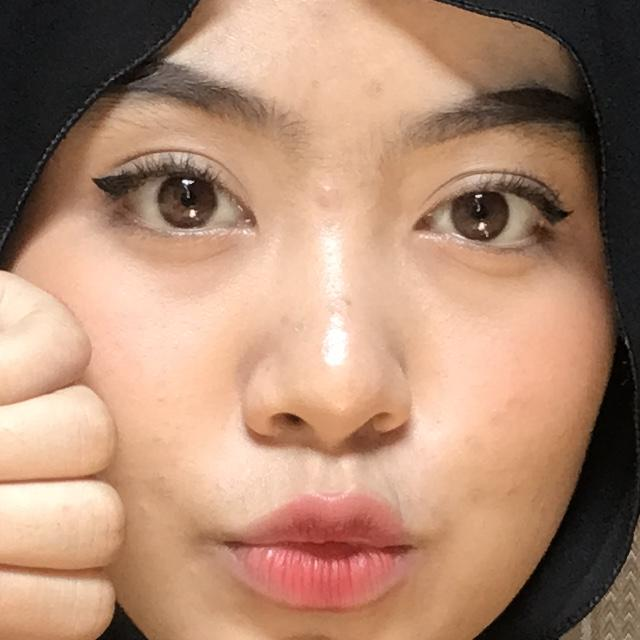sedih: (0, 166, 350, 640)
